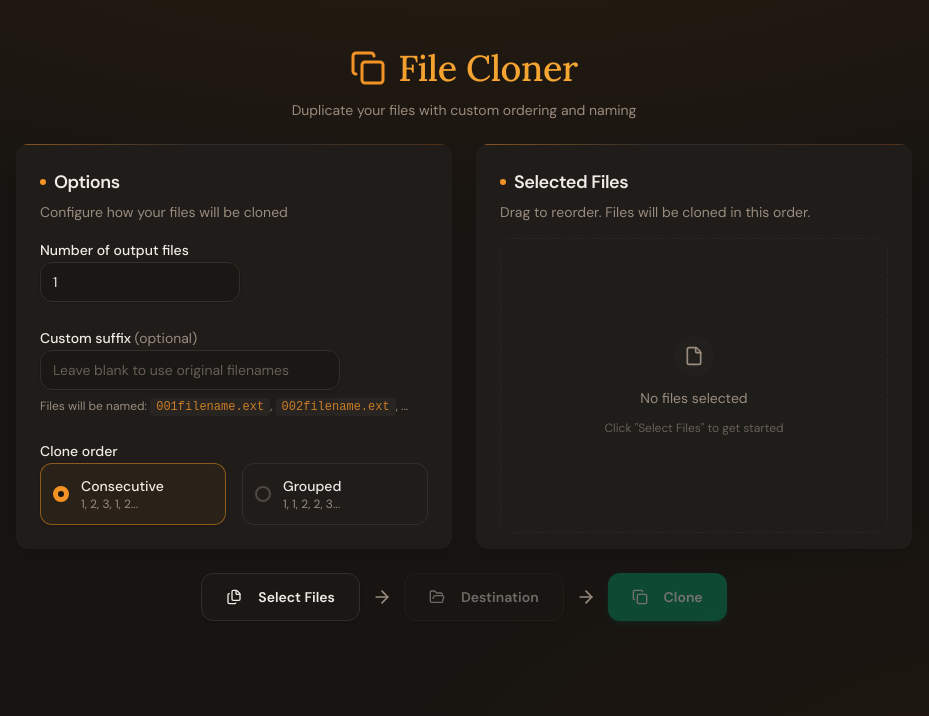
File Cloner App › File Selection › allows selecting files
The width and height of the screenshot is (929, 716).
Click the button "Select Files". click: (281, 597)
box: [201,573,360,621]
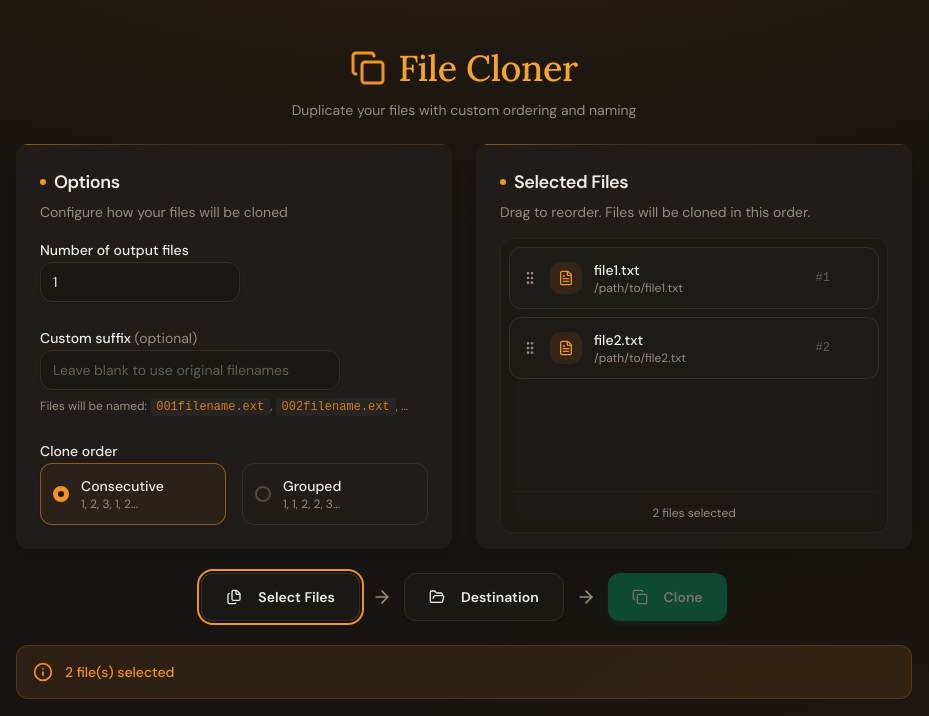
Expected: the text "file1.txt" is shown, [594,261,640,279]
Expected: the text "file2.txt" is shown, [594,331,643,349]
